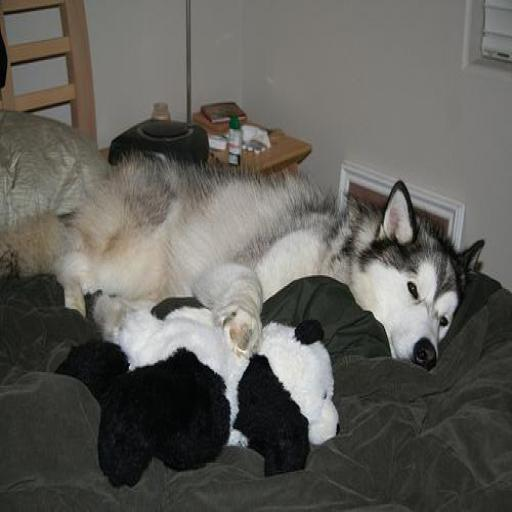dog_face: (378, 171, 487, 372)
